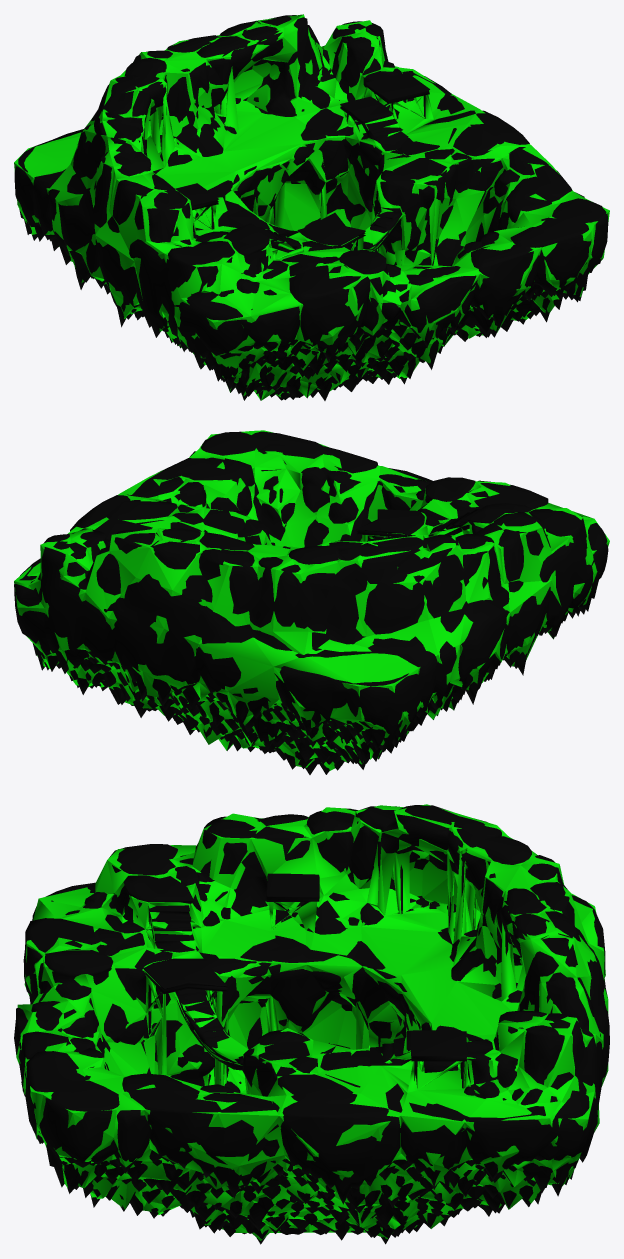
Rendered from FINAL-TRENCH.fbx.
3 renders of one model, top to bottom at view 1: azimuth 30°, elevation 25°; view 2: azimuth 150°, elevation 25°; view 3: azimuth 270°, elevation 25°, orthographic. The views are drawn at different scales.
Visible parts, largest first — view 1: TRENCHLOW_LOD0, UTM_TRENCHLOW; view 2: TRENCHLOW_LOD0, UTM_TRENCHLOW; view 3: TRENCHLOW_LOD0, UTM_TRENCHLOW.
Part boxes in pixels (x1,y1,x2,y2): TRENCHLOW_LOD0: (14, 15, 608, 400); UTM_TRENCHLOW: (14, 14, 609, 400); TRENCHLOW_LOD0: (14, 431, 608, 774); UTM_TRENCHLOW: (14, 430, 609, 770); TRENCHLOW_LOD0: (14, 805, 609, 1244); UTM_TRENCHLOW: (16, 804, 608, 1240).
Size of what is drawn, in the model's own units: 35432 by 20702 by 35686.
